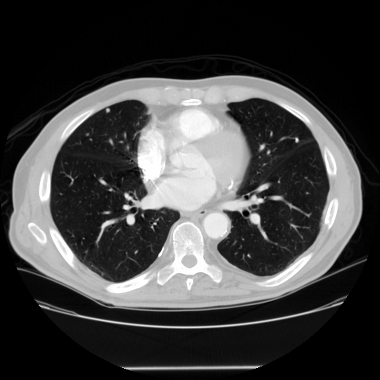nodule: (295, 138, 299, 142)
